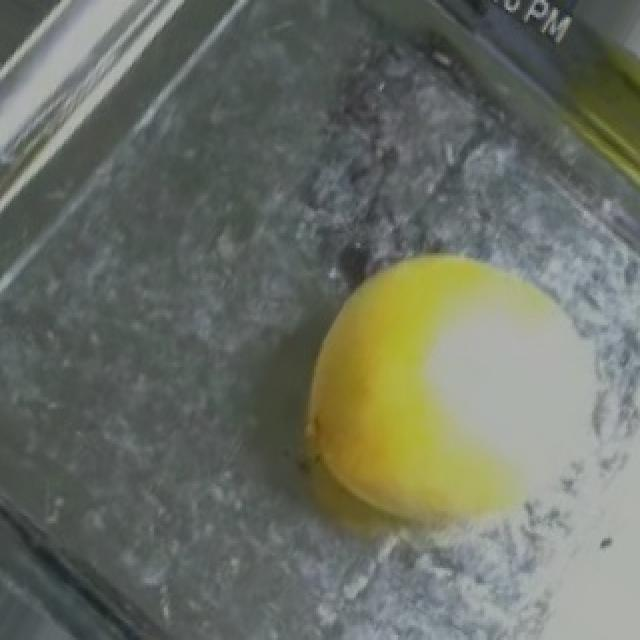fruit: (268, 203, 630, 588)
